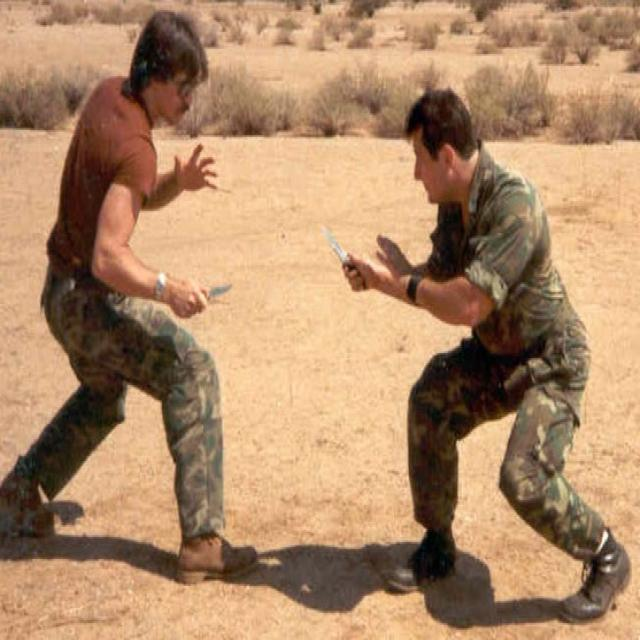knife: (321, 226, 351, 268), (208, 278, 238, 303)
